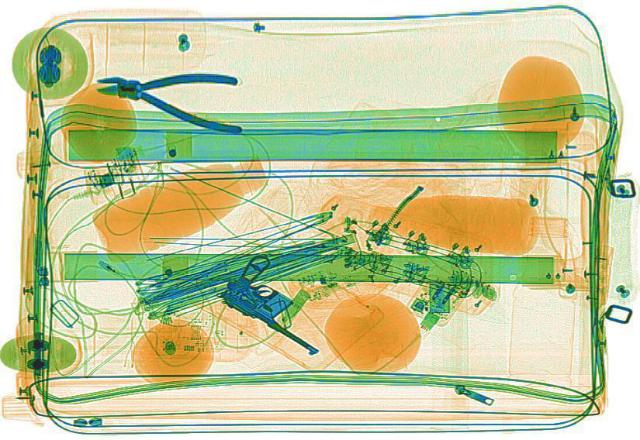Gun: (200, 250, 372, 353)
Pliers: (85, 56, 259, 133)
